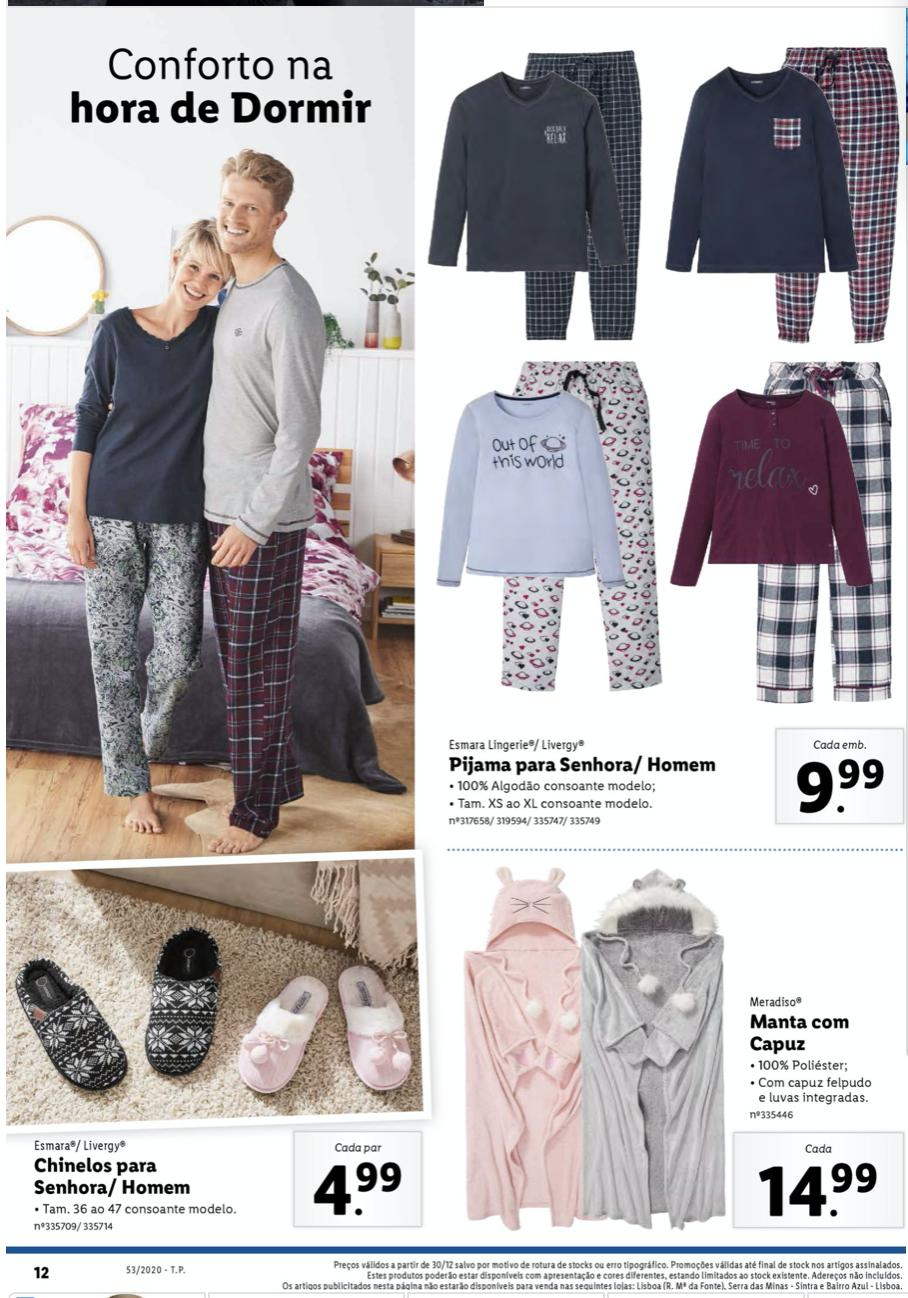name: (444, 749, 721, 778), (33, 1154, 196, 1199), (747, 1012, 858, 1056)
price: (758, 1157, 881, 1223), (788, 756, 892, 822), (308, 1154, 408, 1220)
product: (438, 43, 902, 846), (452, 862, 900, 1236), (10, 875, 442, 1236)
